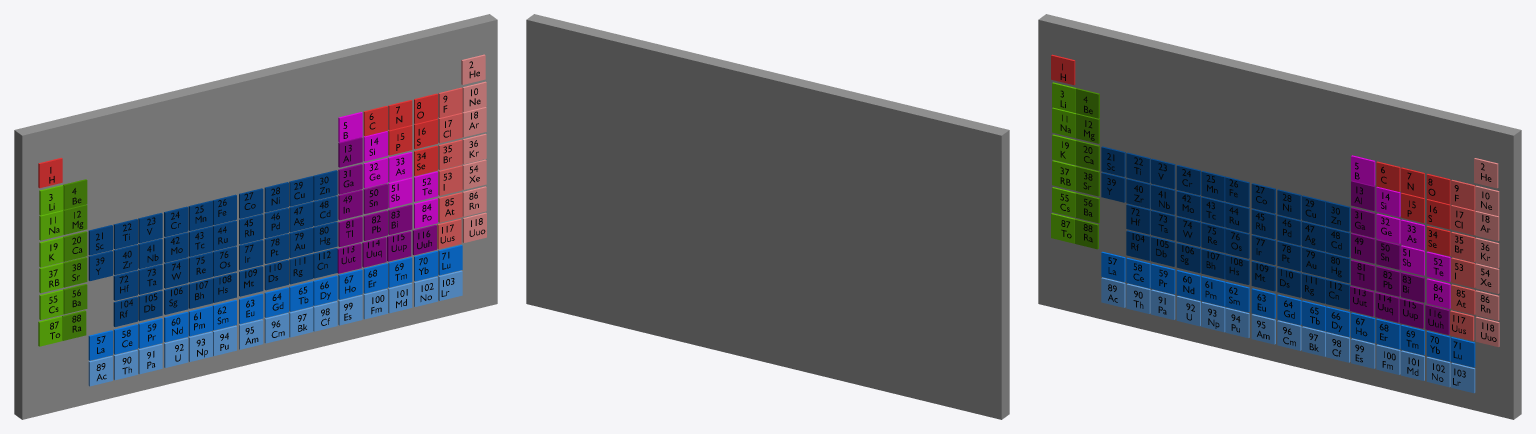
Rendered from pse.glb.
3 renders of one model, left to right at view 1: azimuth 30°, elevation 25°; view 2: azimuth 150°, elevation 25°; view 3: azimuth 330°, elevation 25°, orthographic.
Visible parts, largest first — view 1: Cube, Plane, Plane.124, Plane.001, Plane.108, Plane.002, Plane.075, Plane.003, Plane.007, Plane.025, Plane.037, Plane.019 (+107 smaller); view 2: Cube; view 3: Cube, Plane.051, Plane.130, Plane.124, Plane.017, Plane.075, Plane.052, Plane.128, Plane.019, Plane.050, Plane.126, Plane (+107 smaller).
Boxes of the visible parts, x1,y1,x2,y2 form: Cube: (14, 14, 497, 419); Plane: (38, 157, 62, 188); Plane.124: (438, 245, 462, 275); Plane.001: (39, 185, 63, 215); Plane.108: (438, 165, 462, 195); Plane.002: (39, 210, 63, 240); Plane.075: (239, 240, 263, 270); Plane.003: (39, 237, 63, 267); Plane.007: (63, 179, 87, 209); Plane.025: (388, 100, 412, 130); Plane.037: (438, 87, 462, 117); Plane.019: (363, 106, 387, 136); Cube: (526, 14, 1009, 419); Cube: (1038, 14, 1521, 419); Plane.051: (1126, 152, 1150, 182); Plane.130: (1201, 276, 1225, 306); Plane.124: (1451, 337, 1475, 367); Plane.017: (1351, 260, 1375, 290); Plane.075: (1251, 234, 1275, 264); Plane.052: (1151, 158, 1175, 188); Plane.128: (1151, 264, 1175, 294); Plane.019: (1376, 161, 1400, 191); Plane.050: (1101, 146, 1125, 176); Plane.126: (1101, 251, 1125, 282); Plane: (1051, 54, 1075, 85).
Size of the model in its own units: 3.96 by 2.26 by 0.1476.
